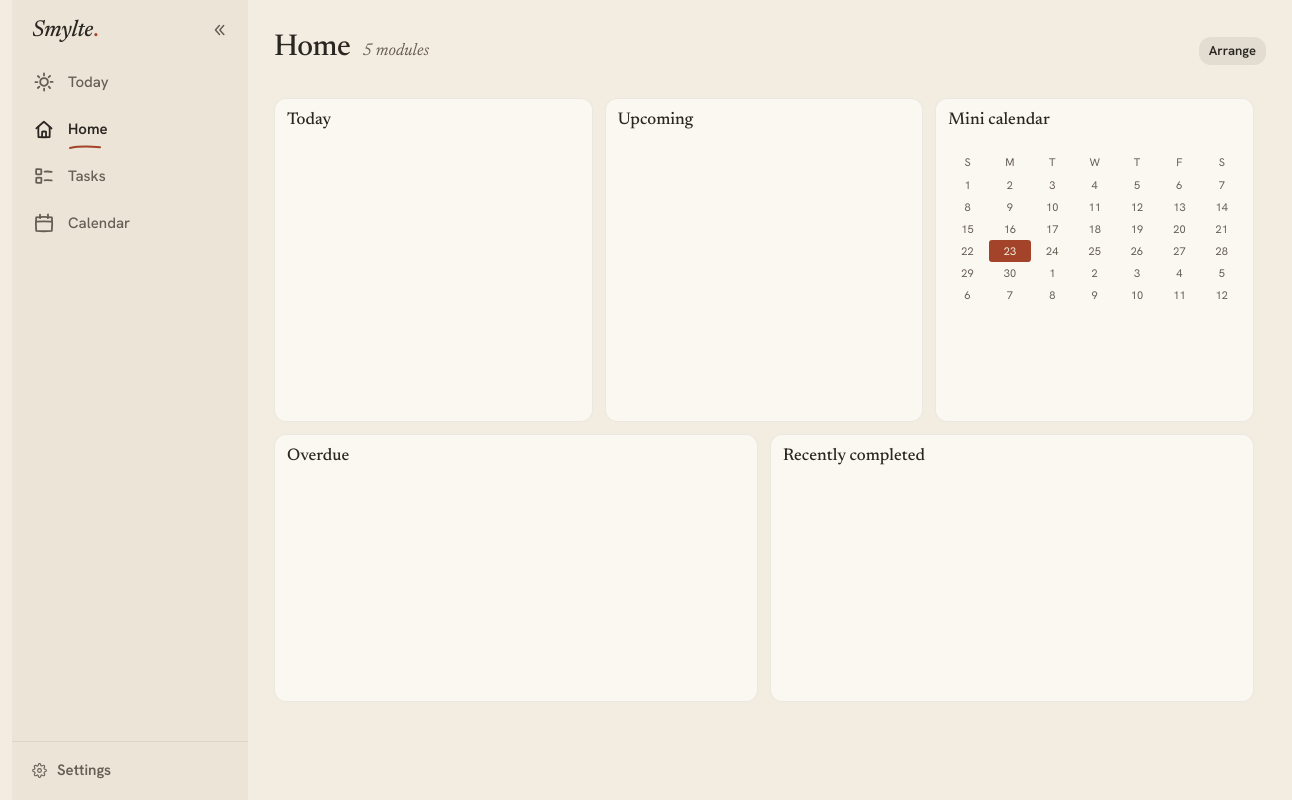
the sidebar layout, further › folds to a rail that keeps the open view's collection dots
The image size is (1292, 800).
Click the button "Tasks" at (130, 177), box [20, 154, 240, 200]
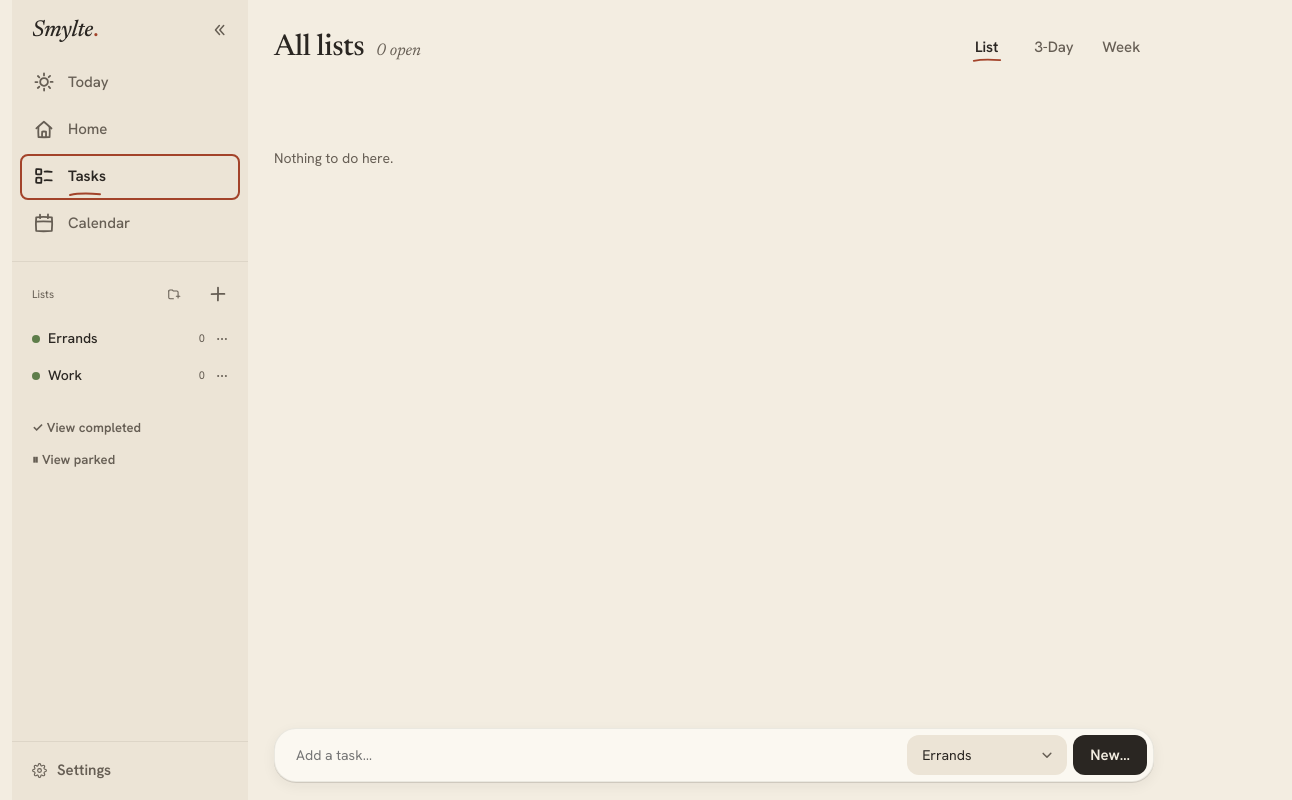
Click the button named "Collapse sidebar" at (219, 30), box [200, 14, 238, 46]
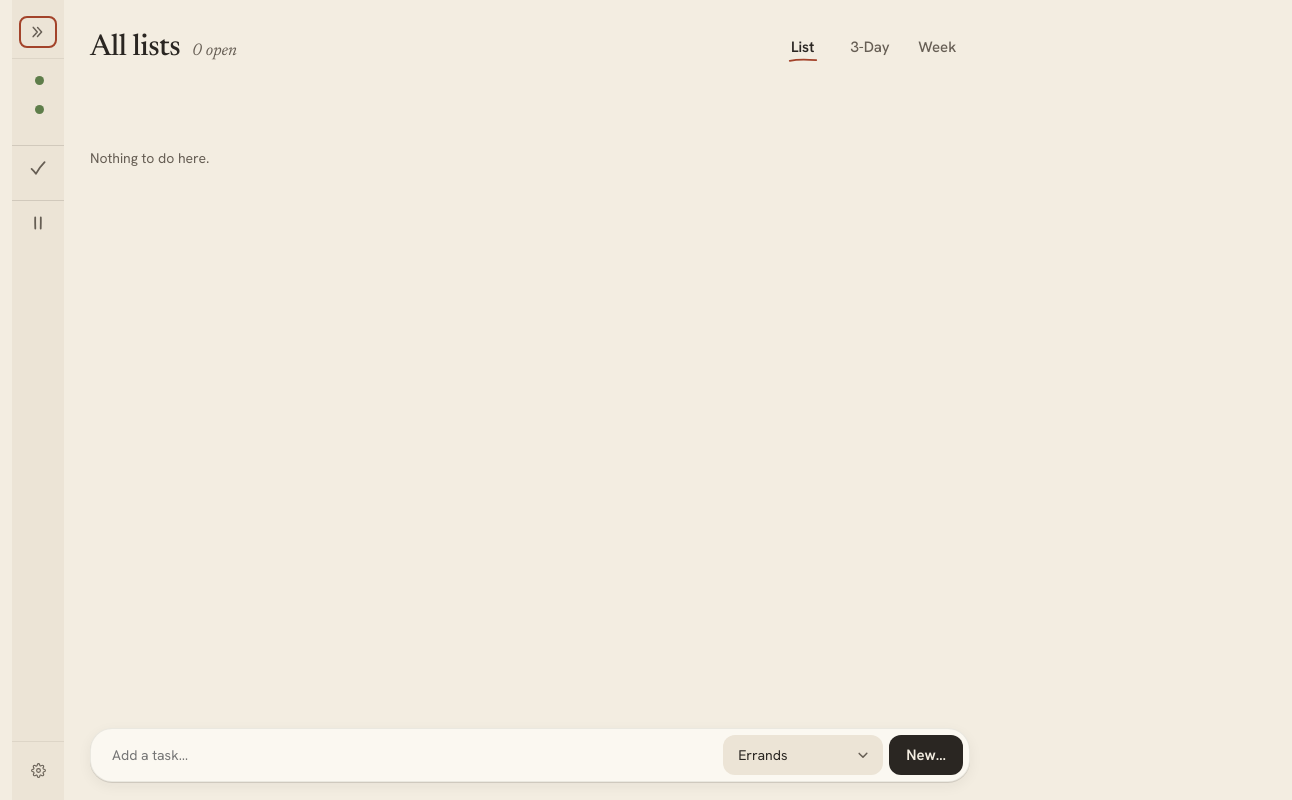
Expected: the number of buttons named "Expand sidebar" is 1, [19, 16, 57, 48]
Expected: the number of buttons with class "rail-dot" is 2, [12, 67, 64, 94]; [12, 96, 64, 123]
